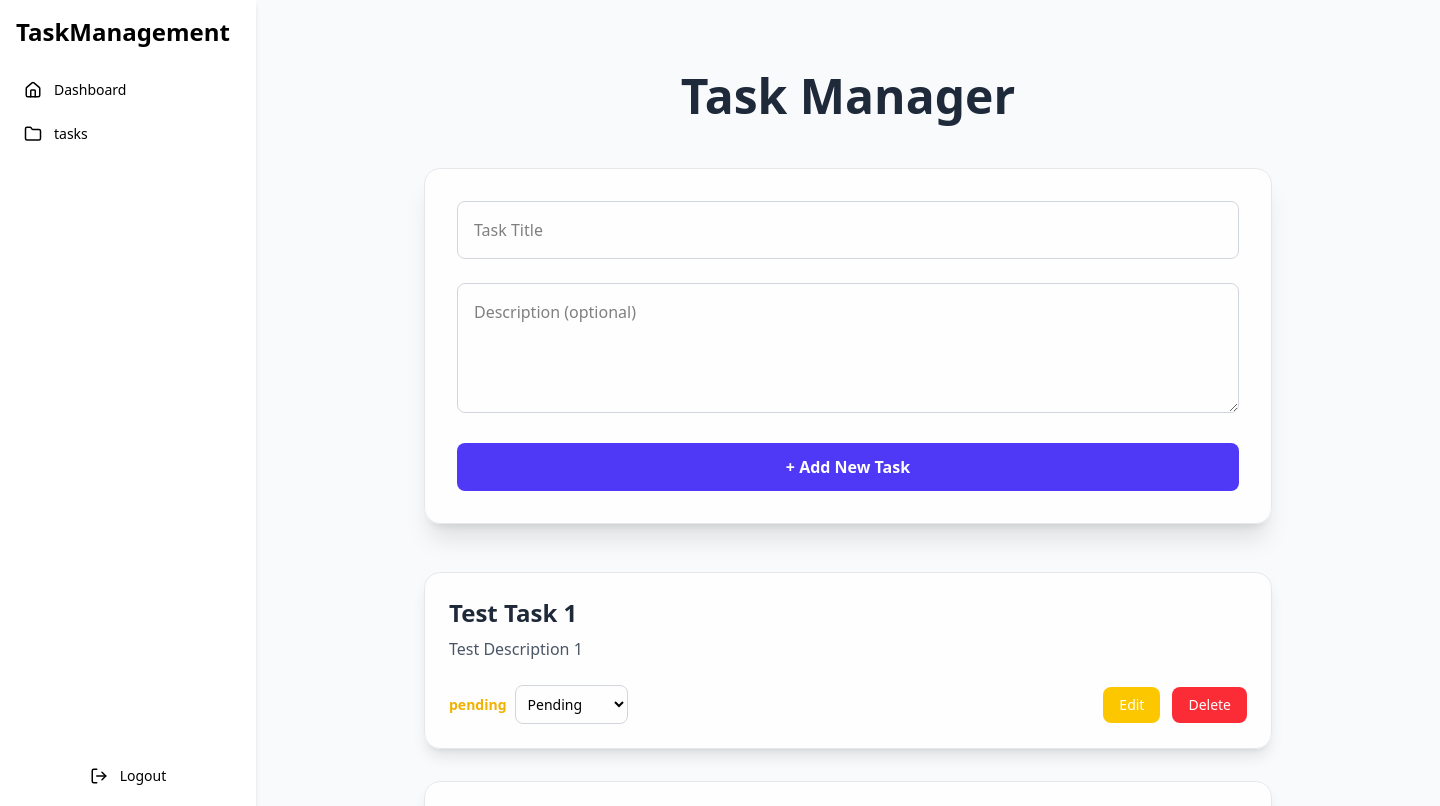
Scenario: Tasks Page › deletes a task
The image size is (1440, 806).
Click the button "Delete" at (1210, 704), box [1172,686,1247,722]
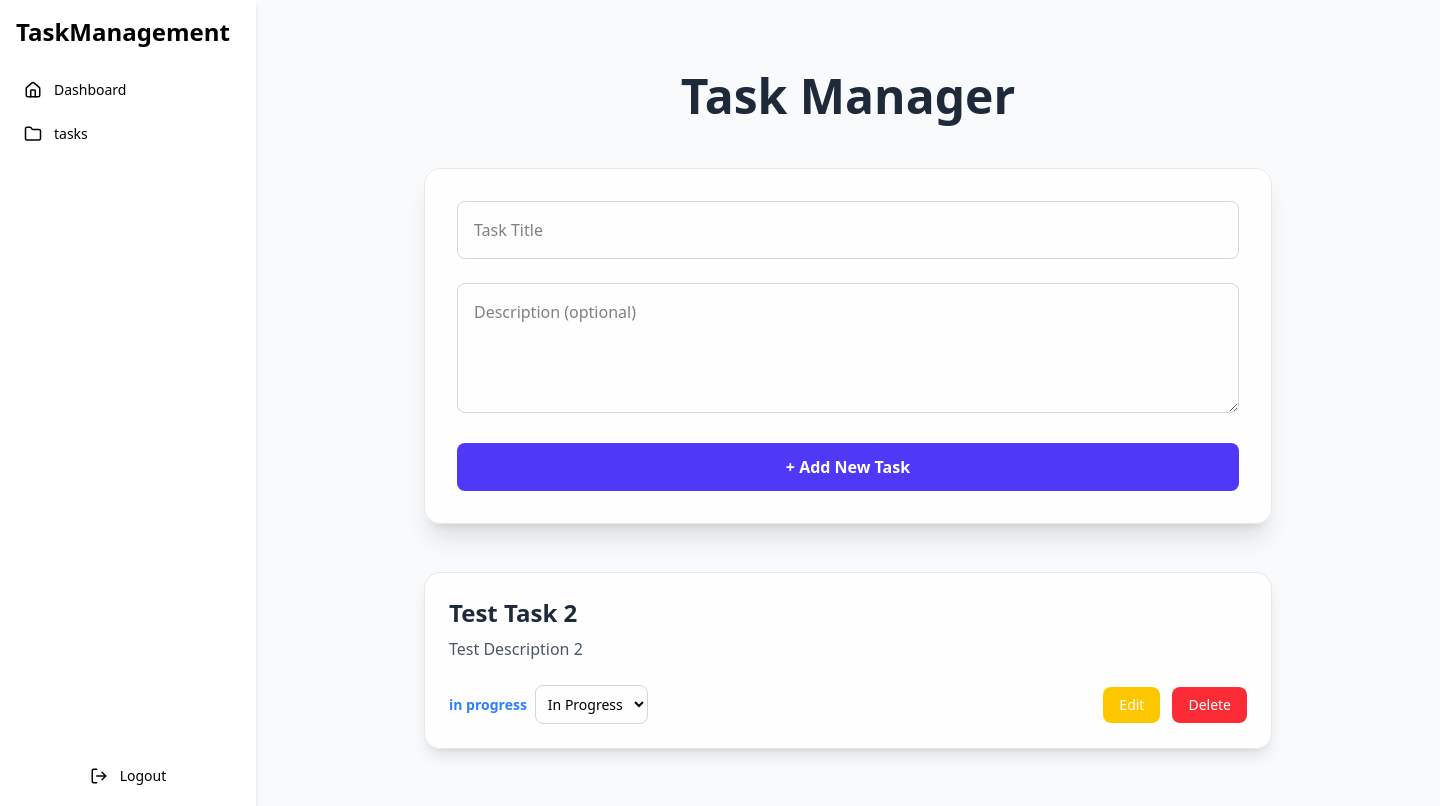
Expected: the heading "Test Task 1" is gone
